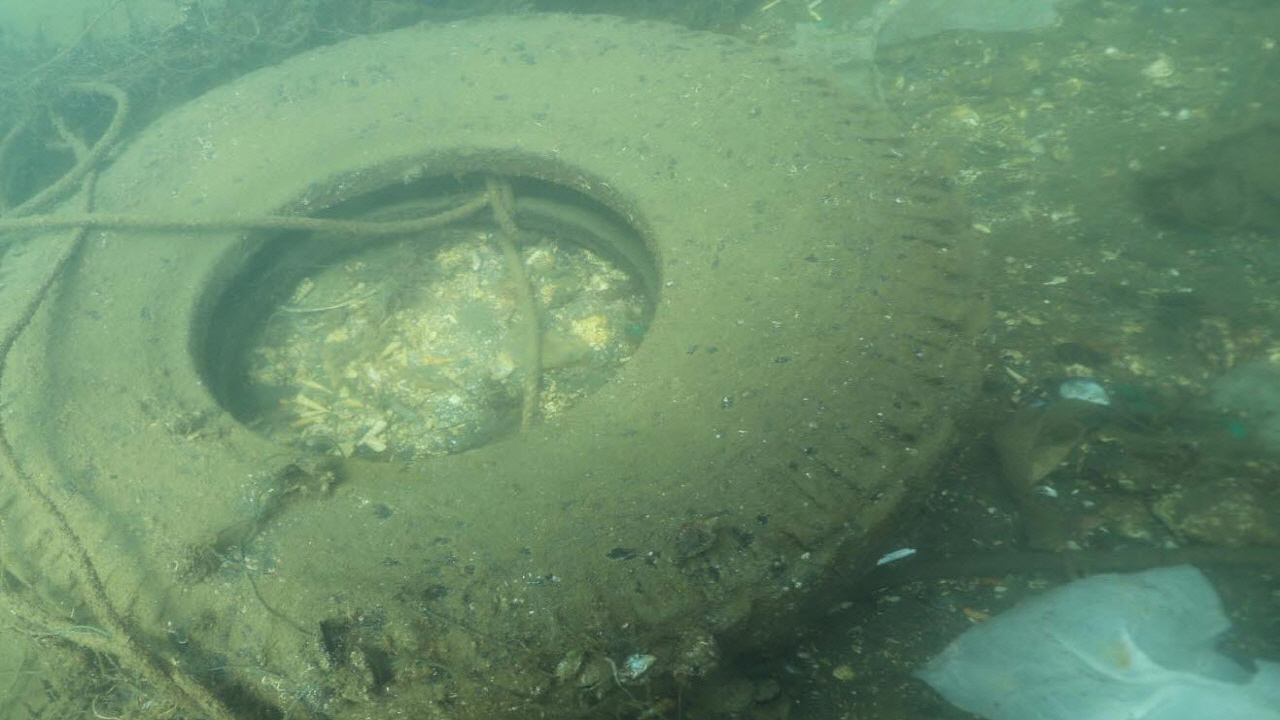bundle of ropes: (0, 76, 543, 720)
tire: (0, 6, 990, 720)
